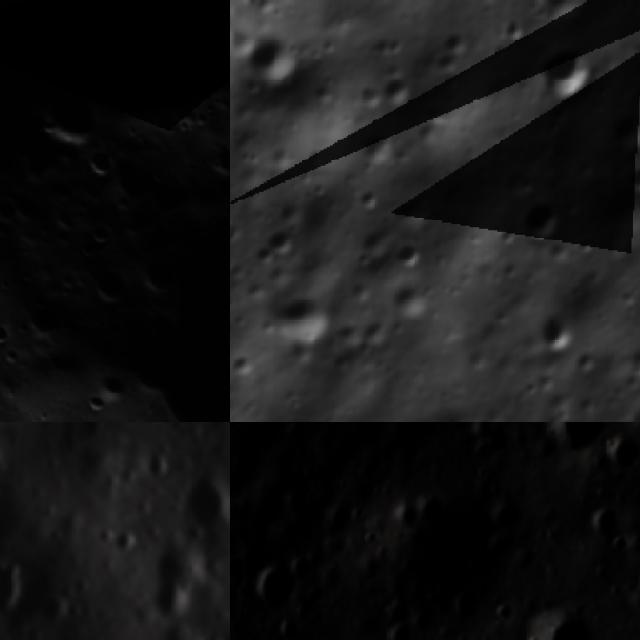crater: (230, 16, 319, 108), (264, 276, 344, 358), (529, 30, 606, 110), (27, 82, 105, 160), (163, 460, 230, 548), (0, 542, 49, 640), (508, 186, 578, 254), (365, 59, 430, 120), (252, 216, 308, 277), (81, 362, 136, 417), (530, 306, 584, 361), (84, 257, 138, 311), (381, 228, 436, 280), (246, 561, 298, 614), (19, 292, 70, 344), (32, 584, 79, 636), (602, 101, 640, 155), (612, 140, 640, 212), (522, 615, 602, 640), (80, 208, 124, 249), (0, 186, 37, 232), (544, 422, 599, 451), (582, 500, 623, 538), (81, 143, 120, 182), (612, 437, 640, 475), (204, 142, 230, 182), (386, 618, 421, 640), (0, 341, 25, 370), (0, 316, 16, 357), (399, 500, 420, 527), (494, 601, 514, 629), (359, 525, 380, 550), (630, 69, 640, 118)
